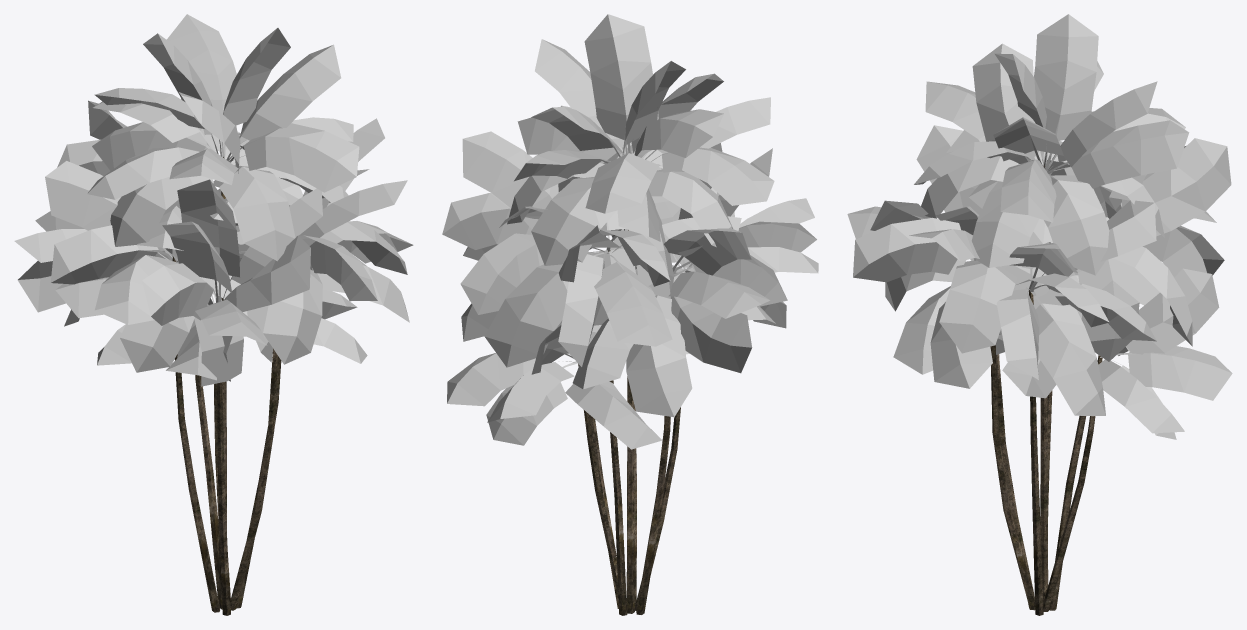
The model's file is zhiwu02.fbx.
3 views of the same model, side by side, from view 1: azimuth 30°, elevation 25°; view 2: azimuth 150°, elevation 25°; view 3: azimuth 270°, elevation 25° (orthographic).
Parts seen in each view (by area): view 1: zhiwu02; view 2: zhiwu02; view 3: zhiwu02.
Part boxes in pixels (x1=…): zhiwu02: x1=14, y1=14, x2=413, y2=615; zhiwu02: x1=442, y1=14, x2=818, y2=615; zhiwu02: x1=847, y1=14, x2=1232, y2=615.
Size of the model in its own units: 38.01 by 61.91 by 37.64.
